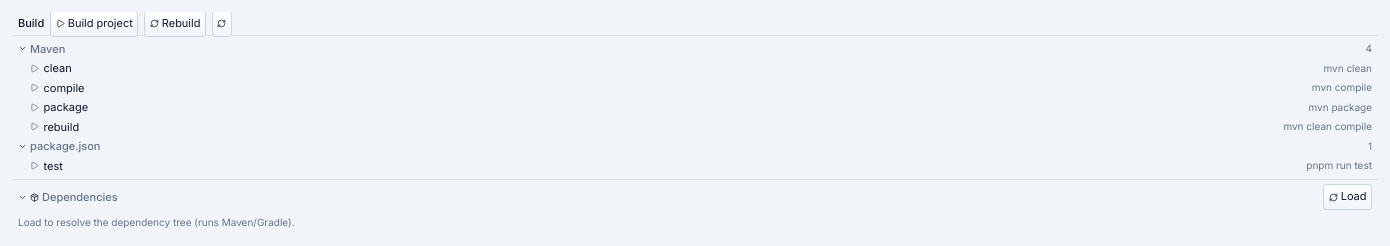
Test: BuildPanel › surfaces a dependency resolution error
The image size is (1390, 246).
Click the button with test id "build-panel-deps-load-app".
click(1348, 197)  # box [1323,184,1372,210]
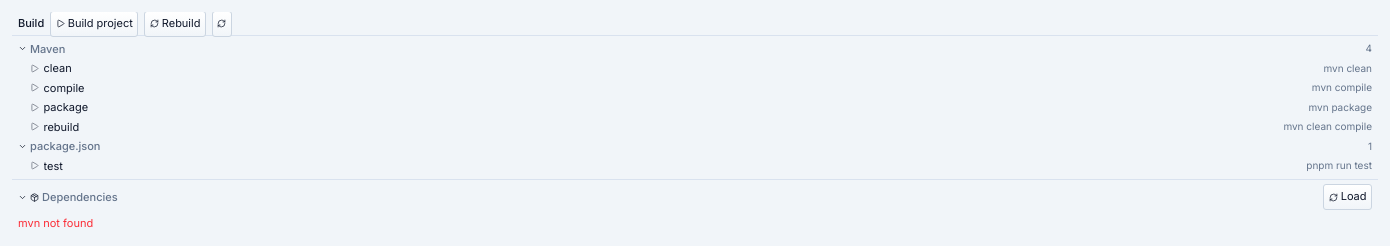
Result: the text "mvn not found" is shown at [18,216,93,230]
